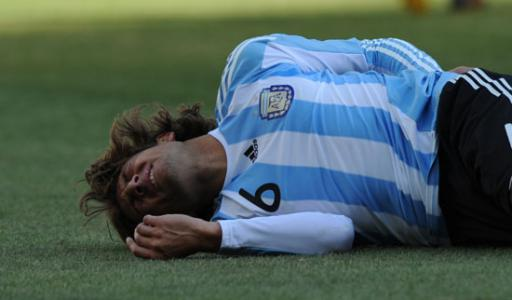fall: (77, 9, 502, 264)
